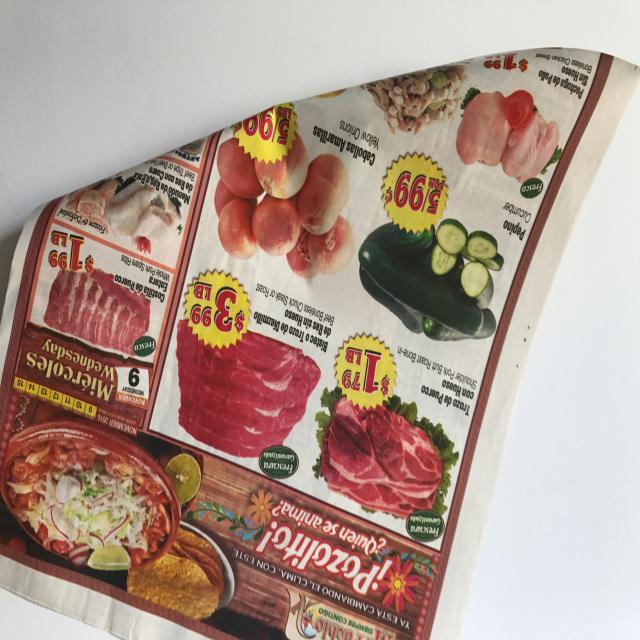paper: (2, 46, 640, 640)
